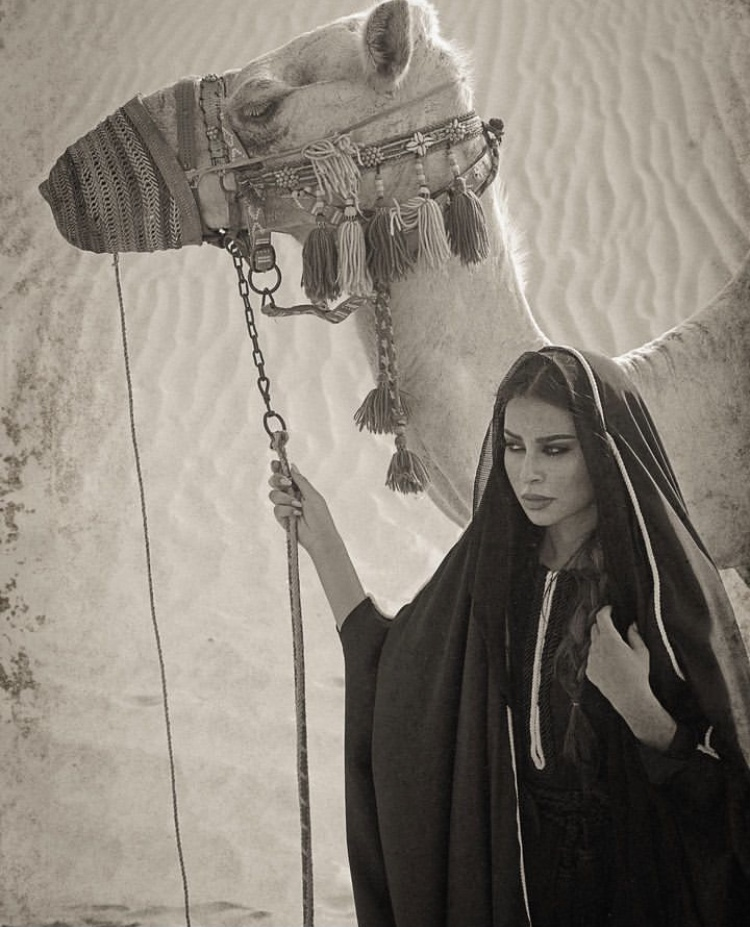Saudi_Founding_Day: (267, 341, 750, 925)
